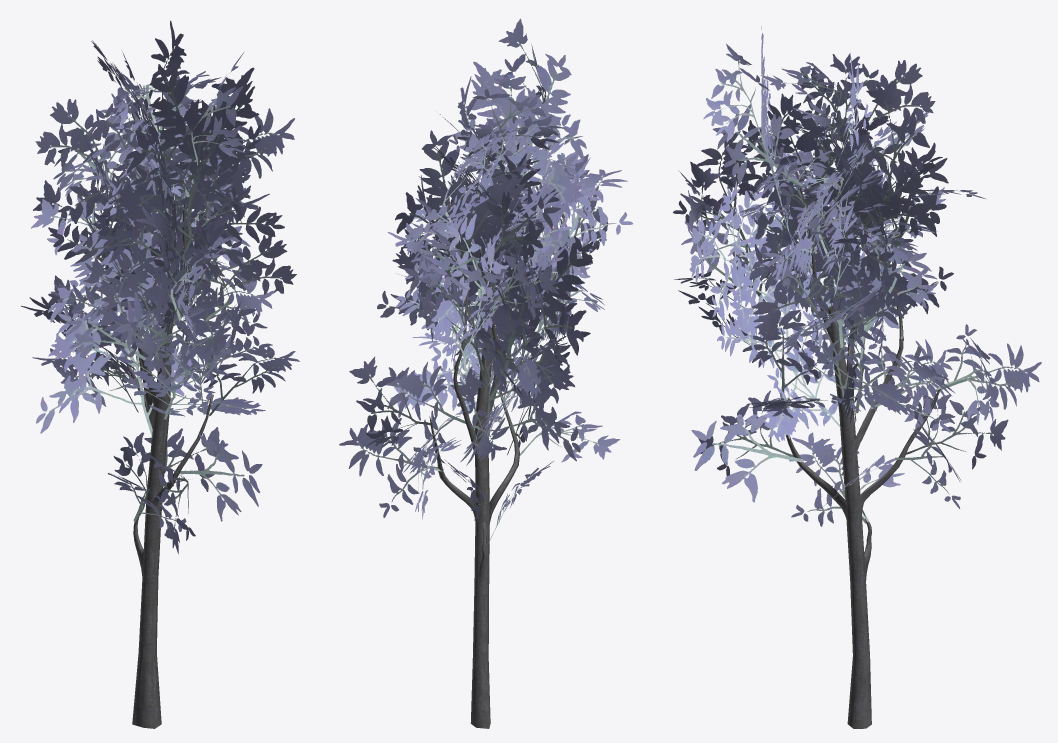
3 renders of one model, left to right at view 1: azimuth 30°, elevation 25°; view 2: azimuth 150°, elevation 25°; view 3: azimuth 270°, elevation 25°, orthographic. The views are drawn at different scales.
Visible parts, largest first — view 1: SM_FH_Ash_Sapling_02_LOD0; view 2: SM_FH_Ash_Sapling_02_LOD0; view 3: SM_FH_Ash_Sapling_02_LOD0.
Part boxes in pixels (x1=…): SM_FH_Ash_Sapling_02_LOD0: x1=21, y1=20, x2=299, y2=728; SM_FH_Ash_Sapling_02_LOD0: x1=339, y1=18, x2=633, y2=728; SM_FH_Ash_Sapling_02_LOD0: x1=673, y1=26, x2=1041, y2=728.
Bounding box in the file's own units: 0.8373 × 2.44 × 1.2.
Materials: 2 (2 with a texture image).
